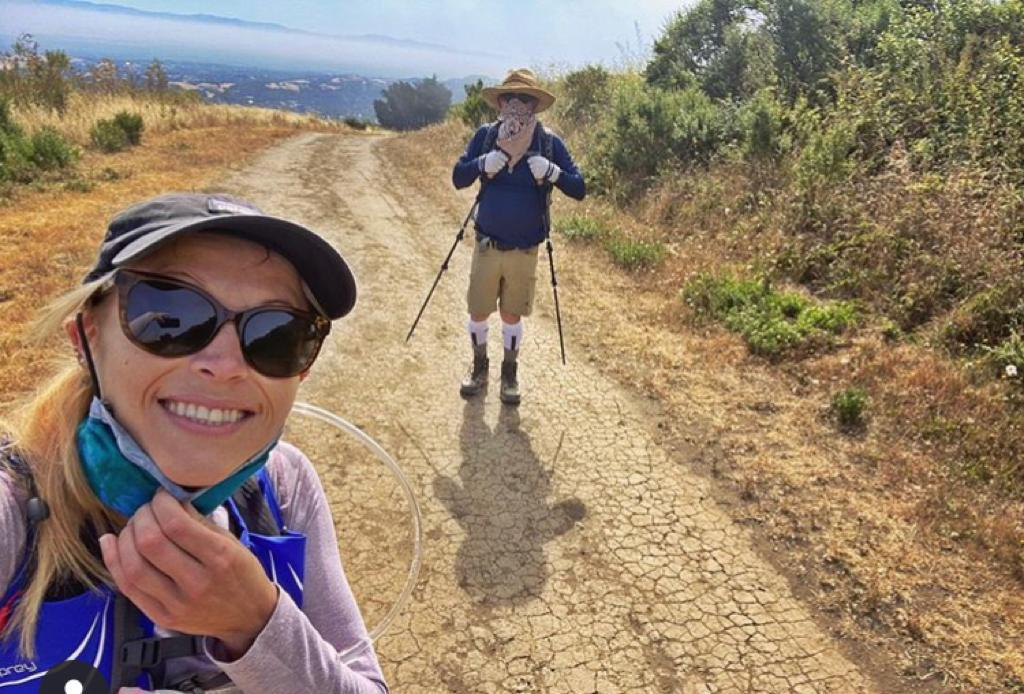mouth: (153, 393, 256, 437)
nose: (187, 358, 247, 383)
